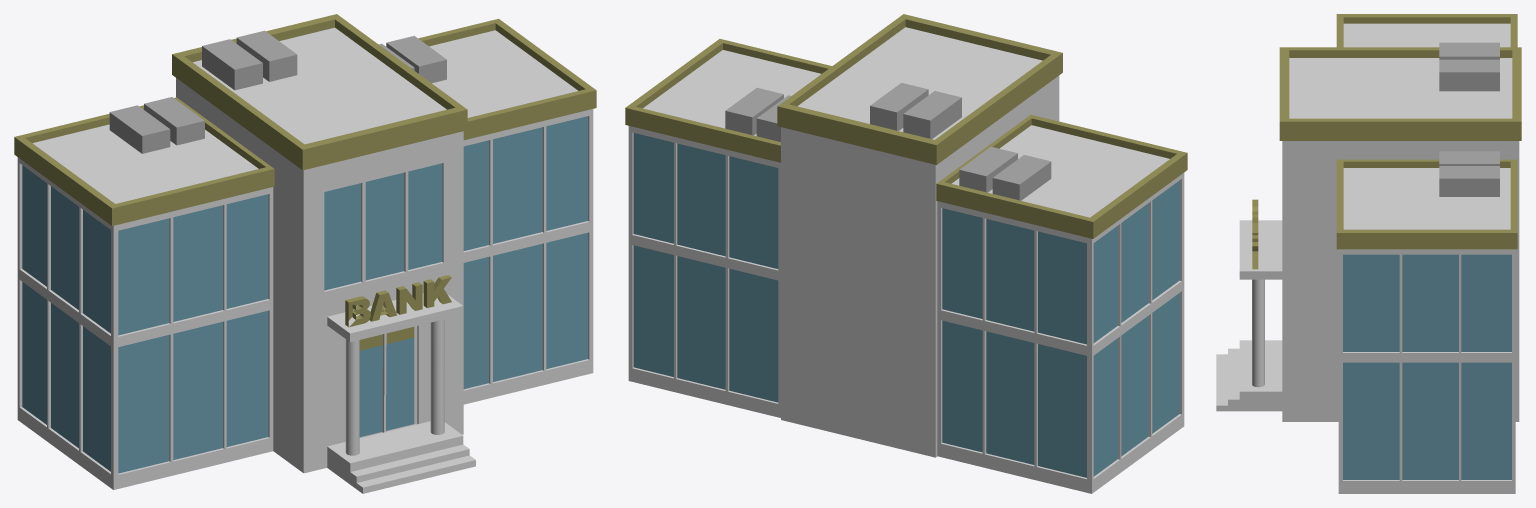
The model's file is Bank.fbx.
3 renders of one model, left to right at view 1: azimuth 30°, elevation 25°; view 2: azimuth 150°, elevation 25°; view 3: azimuth 270°, elevation 25°, orthographic. The views are drawn at different scales.
Parts seen in each view (by area): view 1: pCube13; view 2: pCube13; view 3: pCube13.
Part boxes in pixels (x1,y1,x2,y2): pCube13: (14, 14, 596, 493); pCube13: (625, 14, 1187, 493); pCube13: (1216, 14, 1521, 493).
Bounding box in the file's own units: 4 × 2.66 × 2.36.
